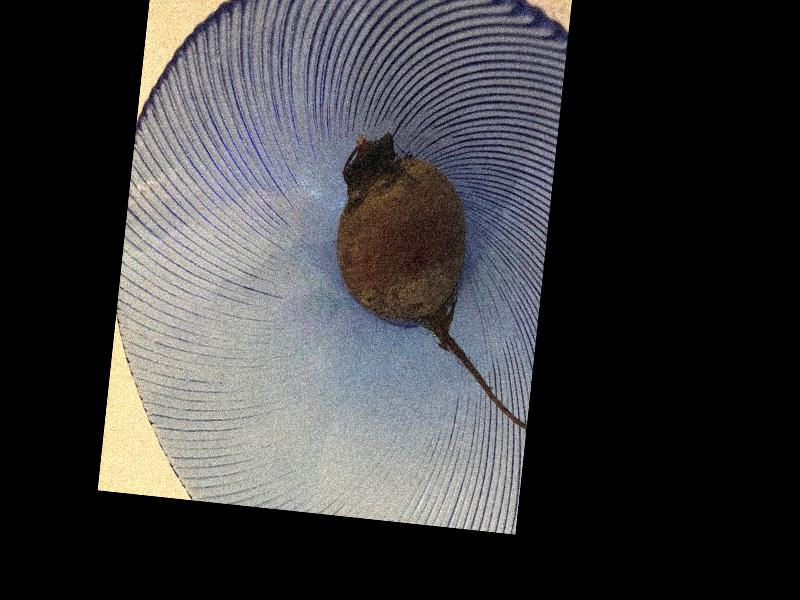Beet: (319, 130, 556, 428)
